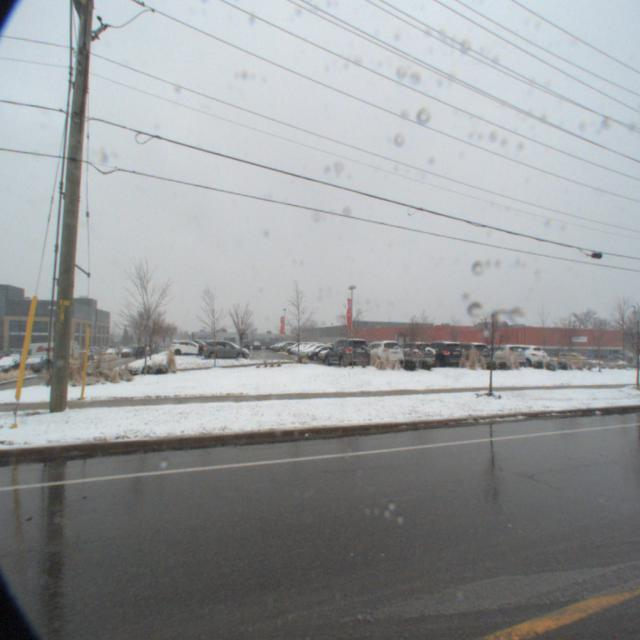Car: (410, 338, 466, 371), (385, 338, 439, 372), (354, 338, 406, 373), (490, 342, 553, 369), (474, 340, 530, 370), (324, 336, 372, 371), (198, 338, 244, 361), (164, 339, 204, 359)
Truck: (1, 342, 73, 372)
